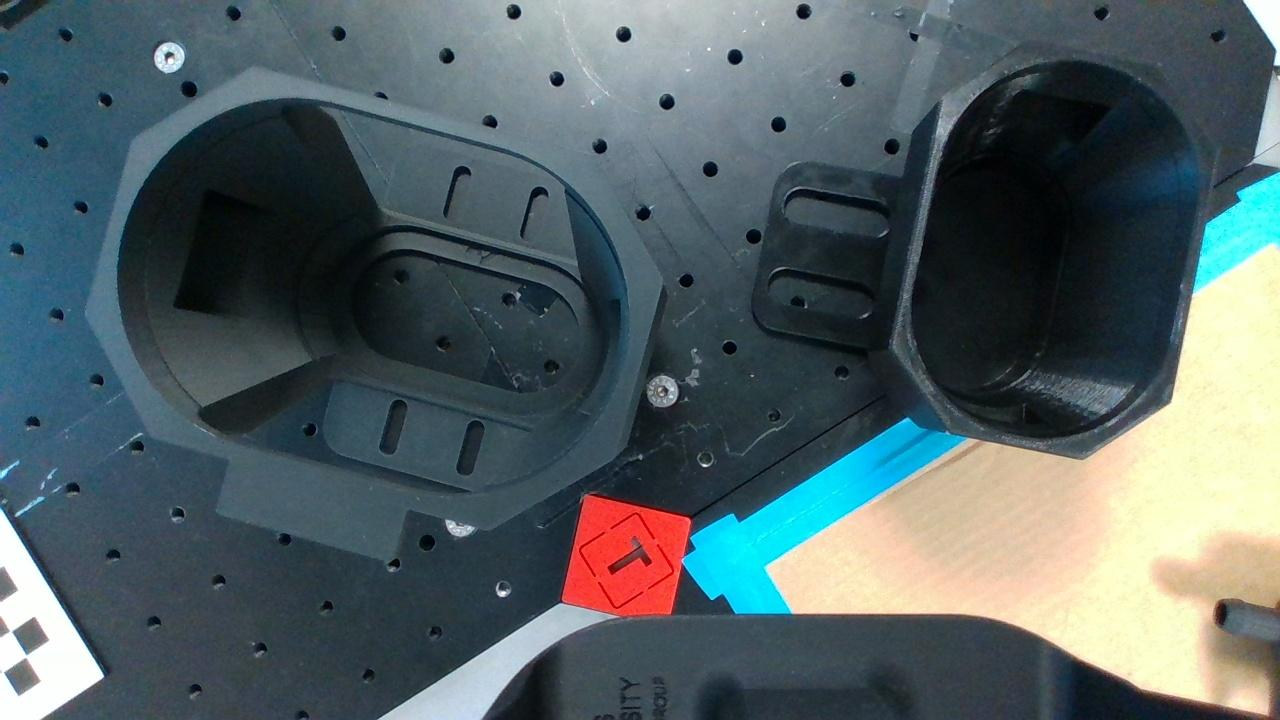big_interface: (84, 65, 665, 529)
small_interface: (891, 39, 1219, 461)
